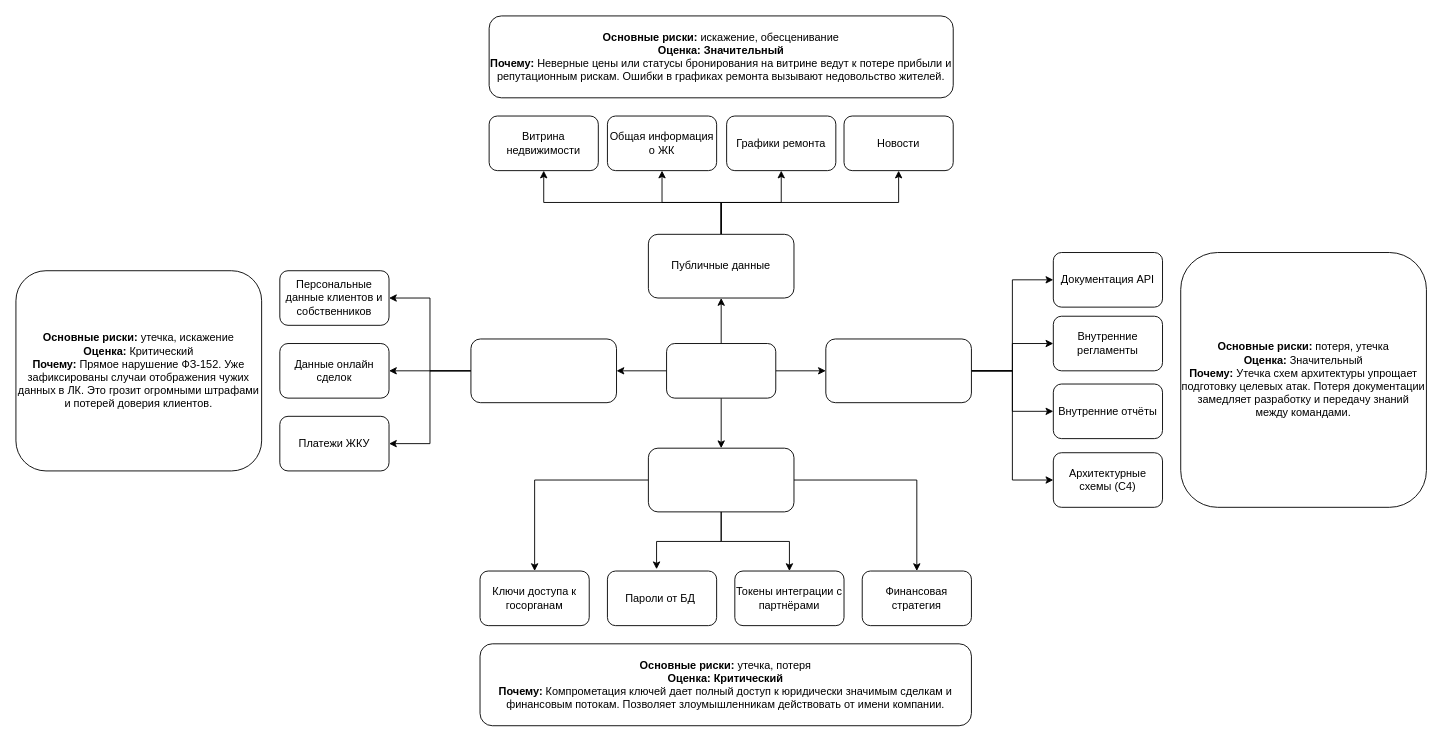
The diagram is 1442 pixels wide and 742 high, and some of its shapes have lost their labels. Each missing label, with the box of its shape:
Безопасность системы: (666, 343, 776, 398)
Внутренние данные: (825, 338, 971, 403)
Конфиденциальные данные: (470, 338, 617, 403)
Секретные данные: (647, 447, 794, 512)
